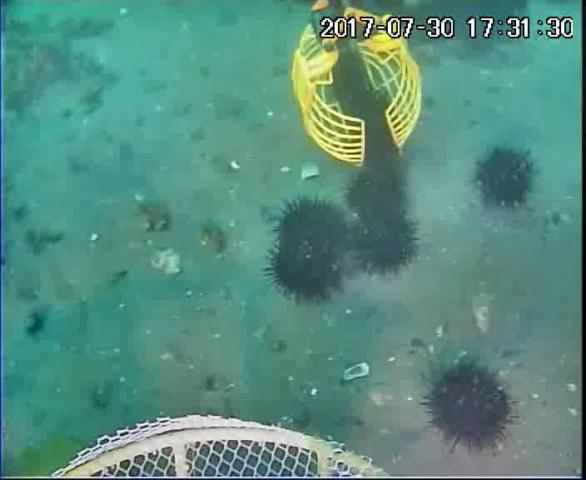echinus: (422, 362, 517, 453), (266, 232, 346, 306), (345, 208, 424, 281), (270, 195, 348, 259), (471, 145, 540, 212), (344, 167, 412, 228), (349, 99, 400, 156)
